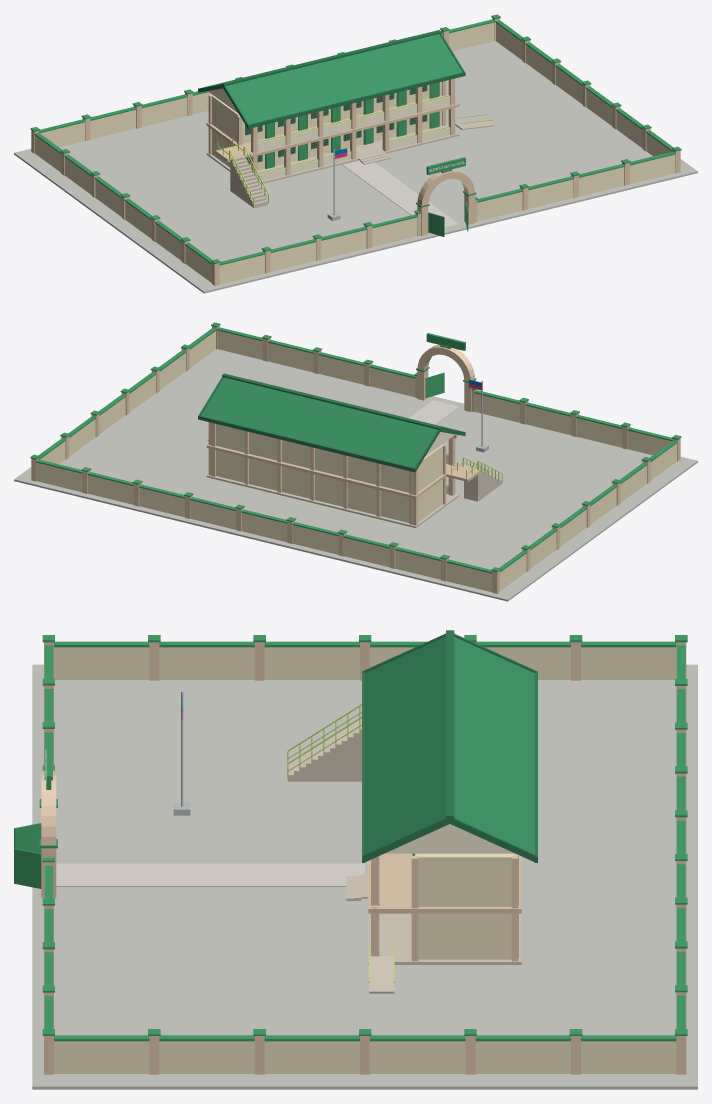
File: ElementarySchool.fbx
3 views of the same model, one above another, from view 1: azimuth 30°, elevation 25°; view 2: azimuth 150°, elevation 25°; view 3: azimuth 270°, elevation 25° (orthographic). The views are drawn at different scales.
Visible parts, largest first — view 1: Yard, Roof, Wall.003, Wall.001, Wall, Wall.004, Wall.002, WallsUpper, Path, GroundSlab, WallsGround, Slab2 (+8 smaller); view 2: Yard, Roof, Wall.003, WallsGround, WallsUpper, Wall.001, Wall, Wall.004, Wall.002, WallCap.003, Slab2, GroundSlab (+8 smaller); view 3: Yard, Roof, Wall.002, Wall.004, Path, WallsUpper, WallsGround, WallCap.002, WallCap.004, Slab2, WallCap.003, GroundSlab (+13 smaller).
Boxes of the visible parts, x1=… form: Yard: x1=14, y1=41, x2=697, y2=293; Roof: x1=218, y1=34, x2=462, y2=124; Wall.003: x1=40, y1=22, x2=494, y2=147; Wall.001: x1=477, y1=154, x2=675, y2=221; Wall: x1=219, y1=217, x2=417, y2=284; Wall.004: x1=35, y1=135, x2=211, y2=282; Wall.002: x1=496, y1=23, x2=671, y2=156; WallsUpper: x1=212, y1=81, x2=442, y2=143; Path: x1=343, y1=160, x2=459, y2=228; GroundSlab: x1=206, y1=124, x2=459, y2=184; WallsGround: x1=212, y1=111, x2=442, y2=170; Slab2: x1=206, y1=94, x2=459, y2=157; Yard: x1=14, y1=349, x2=697, y2=601; Roof: x1=200, y1=377, x2=444, y2=467; Wall.003: x1=36, y1=462, x2=492, y2=592; WallsGround: x1=216, y1=450, x2=442, y2=522; WallsUpper: x1=216, y1=424, x2=443, y2=492; Wall.001: x1=217, y1=330, x2=415, y2=396; Wall: x1=475, y1=393, x2=671, y2=455; Wall.004: x1=500, y1=443, x2=676, y2=590; Wall.002: x1=40, y1=331, x2=215, y2=464; WallCap.003: x1=36, y1=459, x2=492, y2=573; Slab2: x1=206, y1=444, x2=458, y2=498; GroundSlab: x1=206, y1=474, x2=459, y2=528; Yard: x1=32, y1=664, x2=697, y2=1089; Roof: x1=365, y1=636, x2=534, y2=854; Wall.002: x1=54, y1=1041, x2=676, y2=1073; Wall.004: x1=54, y1=647, x2=676, y2=679; Path: x1=56, y1=863, x2=364, y2=886; WallsUpper: x1=415, y1=853, x2=513, y2=906; WallsGround: x1=418, y1=913, x2=511, y2=959; WallCap.002: x1=54, y1=1035, x2=676, y2=1041; WallCap.004: x1=54, y1=641, x2=676, y2=647; Slab2: x1=368, y1=853, x2=521, y2=913; WallCap.003: x1=677, y1=645, x2=685, y2=1028; GroundSlab: x1=368, y1=913, x2=521, y2=964.
Size of the model in its own units: 60 by 10.32 by 41.1.
